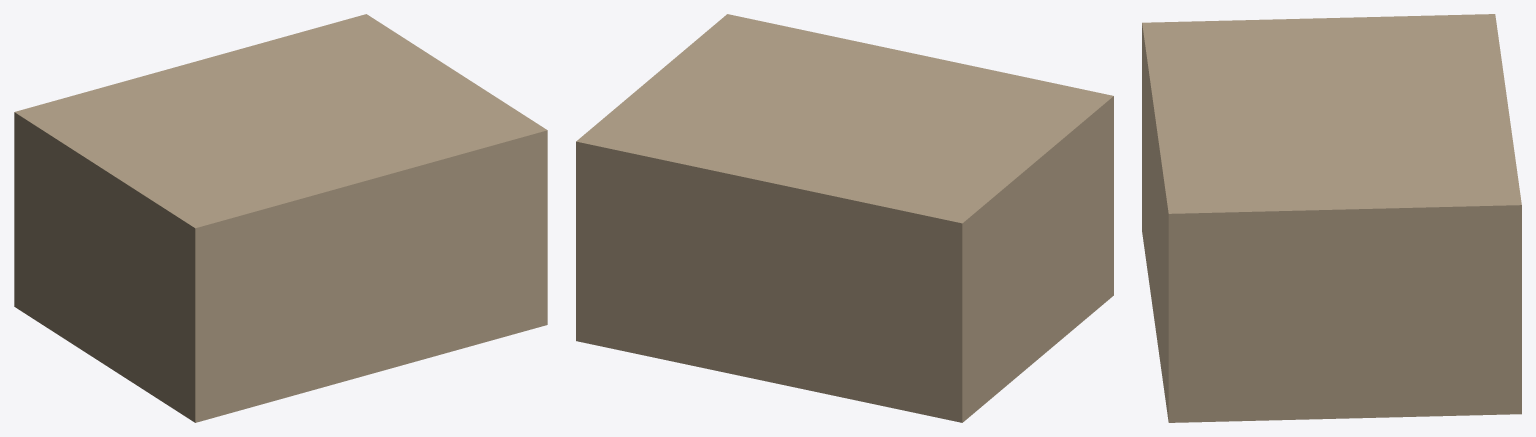
File: bld_106466755.dae
3 renders of one model, left to right at view 1: azimuth 30°, elevation 25°; view 2: azimuth 150°, elevation 25°; view 3: azimuth 270°, elevation 25°, orthographic. The views are drawn at different scales.
Parts seen in each view (by area): view 1: bld_106466755; view 2: bld_106466755; view 3: bld_106466755.
Part boxes in pixels (x1,y1,x2,y2): bld_106466755: (14, 14, 547, 422); bld_106466755: (576, 14, 1113, 422); bld_106466755: (1142, 14, 1521, 422).
Size of the model in its own units: 16.4 by 13.17 by 8.
